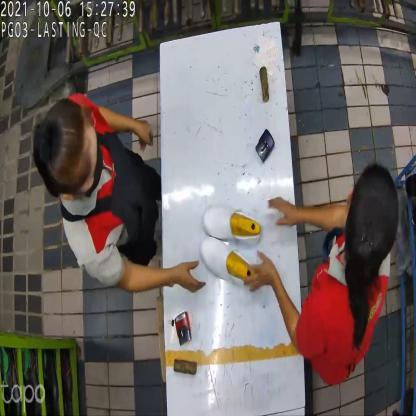shoes: (200, 204, 264, 288)
stamp: (173, 312, 195, 344), (254, 127, 274, 162)
